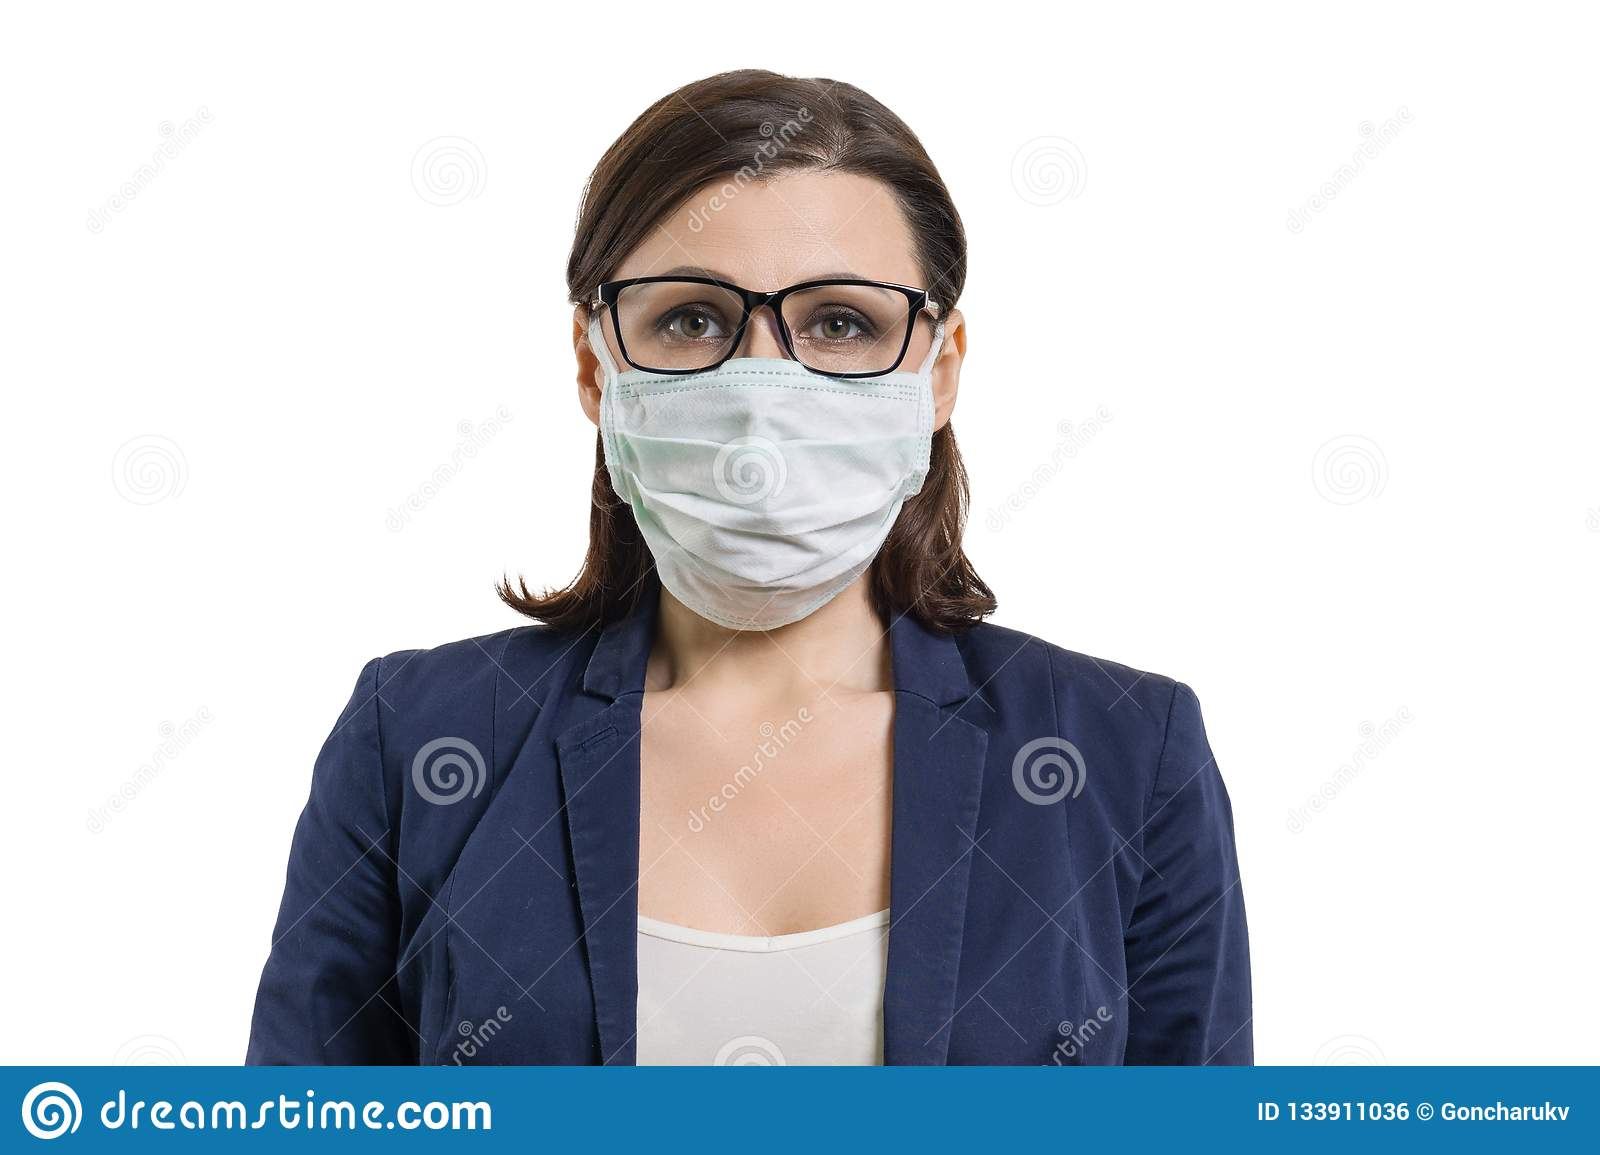mask: (598, 353, 935, 636)
